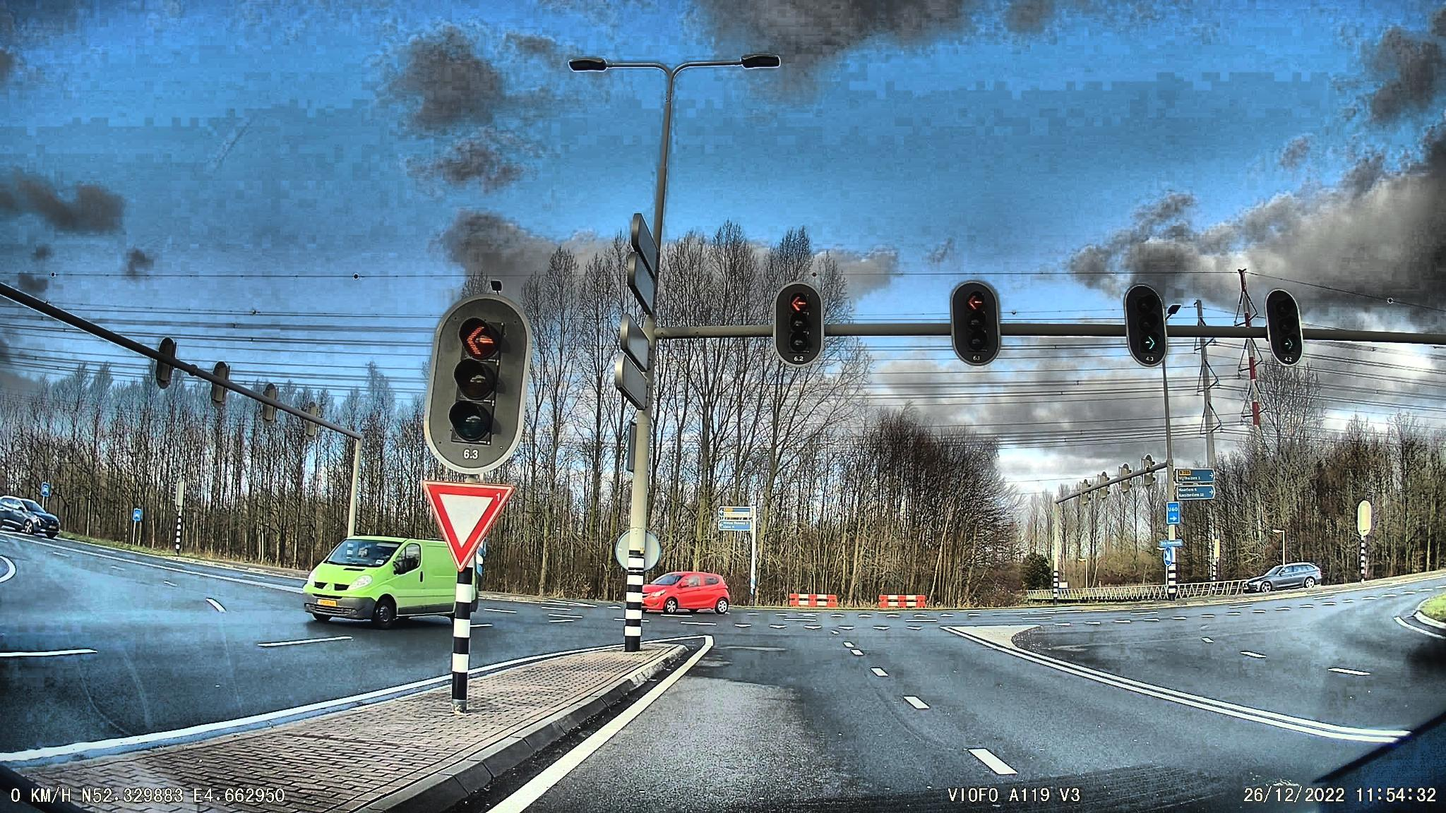Roads: (0, 537, 1446, 813)
